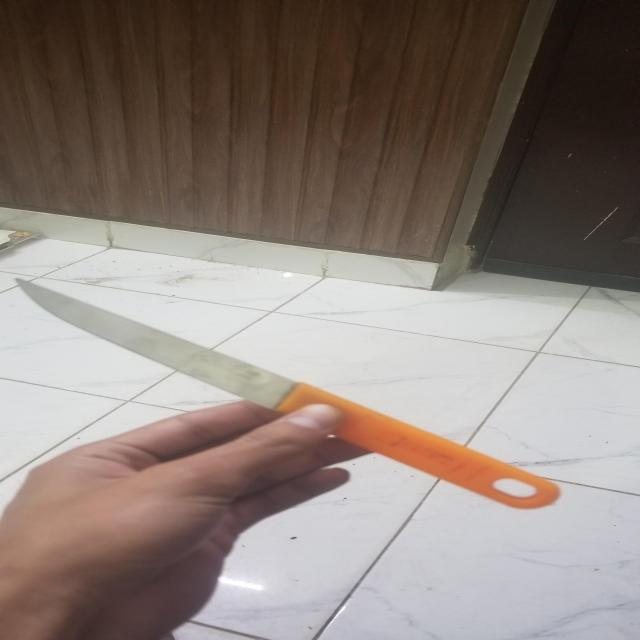faca: (17, 278, 562, 510)
